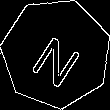N_NE: (26, 21, 86, 86)
